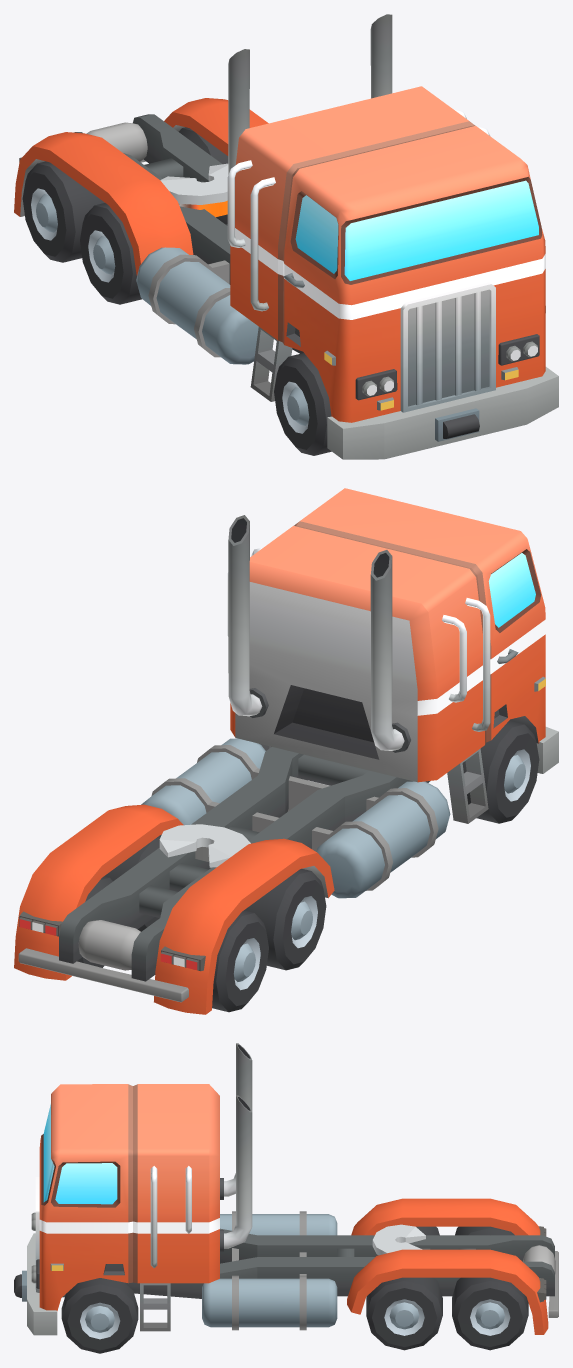
File: city2-truck-01.glb
3 renders of one model, top to bottom at view 1: azimuth 30°, elevation 25°; view 2: azimuth 150°, elevation 25°; view 3: azimuth 270°, elevation 25°, orthographic. The views are drawn at different scales.
Parts seen in each view (by area): view 1: Cube.029, Wheel_249, Wheel_251, Wheel_250, Wheel_254; view 2: Cube.029, Wheel_250, Wheel_251, Wheel_249, Wheel_253; view 3: Cube.029, Wheel_252, Wheel_253, Wheel_254, Wheel_249.
Boxes of the visible parts, <box> form: Cube.029: <box>14,14,558,459</box>; Wheel_249: <box>22,161,104,262</box>; Wheel_251: <box>274,353,331,455</box>; Wheel_250: <box>80,203,141,304</box>; Wheel_254: <box>179,127,228,164</box>; Cube.029: <box>14,488,558,1014</box>; Wheel_250: <box>244,868,326,970</box>; Wheel_251: <box>462,720,539,823</box>; Wheel_249: <box>212,910,268,1012</box>; Wheel_253: <box>104,834,161,931</box>; Cube.029: <box>14,1043,558,1335</box>; Wheel_252: <box>61,1278,138,1353</box>; Wheel_253: <box>366,1277,442,1350</box>; Wheel_254: <box>452,1277,528,1350</box>; Wheel_249: <box>455,1226,514,1235</box>.
Bounding box in the file's own units: 2.77 × 3.63 × 7.29.
2 materials, 2 textured.
